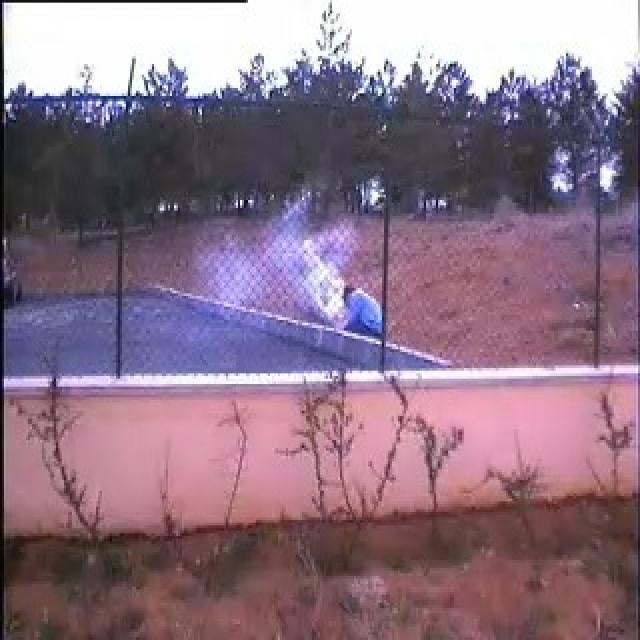smoke: (215, 214, 353, 316)
